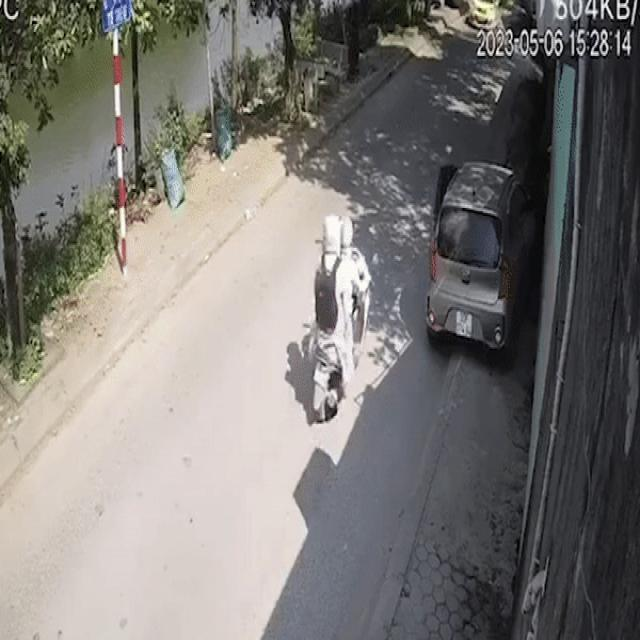normal: (289, 194, 389, 429)
